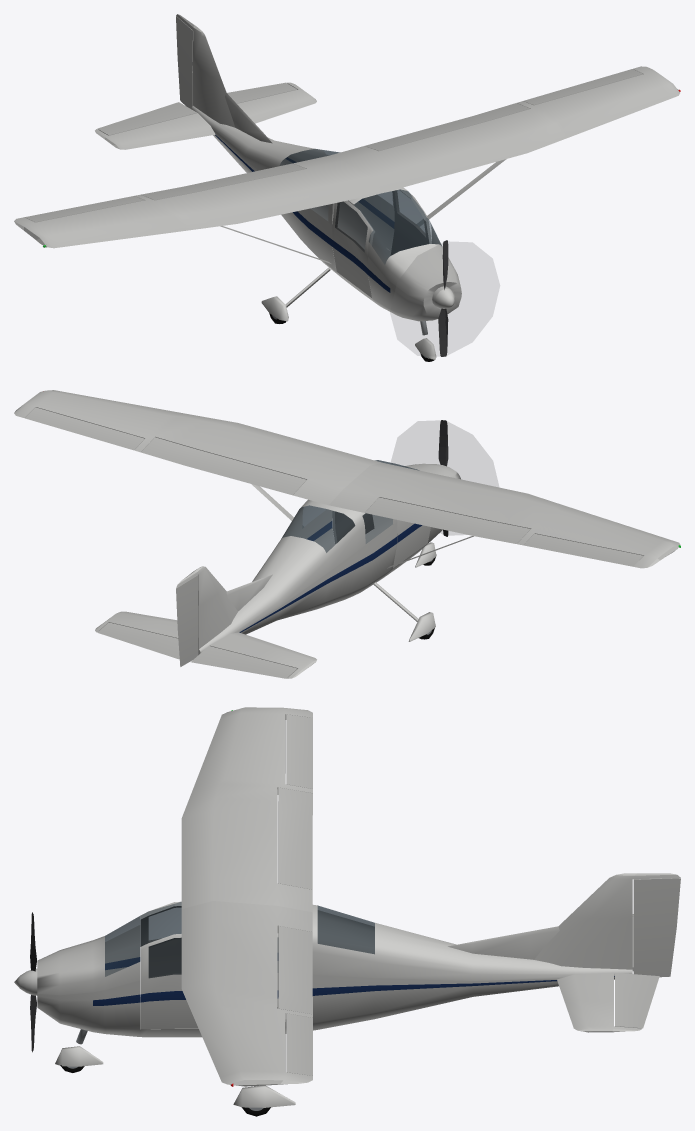
The model's file is cessna_lod2.glb.
The picture shows the model from 3 angles, top to bottom: view 1: azimuth 30°, elevation 25°; view 2: azimuth 150°, elevation 25°; view 3: azimuth 270°, elevation 25°; orthographic projection. The views are drawn at different scales.
Parts seen in each view (by area): view 1: fuselage, wing_l, wing_r, prop_disc, door_r, elevator, door_l, flap_l, flap_r, rudder, gear, propeller (+2 smaller); view 2: fuselage, wing_l, wing_r, prop_disc, flap_l, elevator, flap_r, rudder, aileron_l, aileron_r, door_r, gear (+2 smaller); view 3: fuselage, wing_r, wing_l, rudder, door_l, flap_r, flap_l, door_r, gear, elevator, aileron_r, aileron_l (+1 smaller).
Part boxes in pixels (<box>): fuselage: <box>95,14,506,321</box>; wing_l: <box>329,66,680,192</box>; wing_r: <box>14,156,382,248</box>; prop_disc: <box>390,242,499,356</box>; door_r: <box>332,200,374,297</box>; elevator: <box>97,82,296,135</box>; door_l: <box>390,189,431,255</box>; flap_l: <box>365,103,530,150</box>; flap_r: <box>141,163,306,200</box>; rudder: <box>176,16,193,108</box>; gear: <box>261,267,436,361</box>; propeller: <box>432,240,454,356</box>; fuselage: <box>95,460,473,678</box>; wing_l: <box>14,390,382,505</box>; wing_r: <box>329,463,680,568</box>; prop_disc: <box>391,421,498,534</box>; flap_l: <box>141,437,306,495</box>; elevator: <box>97,622,297,678</box>; flap_r: <box>365,497,530,543</box>; rudder: <box>176,575,198,666</box>; aileron_l: <box>25,407,144,450</box>; aileron_r: <box>523,533,643,566</box>; door_r: <box>393,520,430,567</box>; gear: <box>373,542,436,641</box>; fuselage: <box>37,873,680,1037</box>; wing_r: <box>181,707,312,912</box>; wing_l: <box>181,901,312,1086</box>; rudder: <box>633,878,680,977</box>; door_l: <box>140,934,198,1029</box>; flap_r: <box>278,787,312,889</box>; flap_l: <box>278,926,312,1014</box>; door_r: <box>140,901,181,976</box>; gear: <box>55,1029,295,1116</box>; elevator: <box>615,916,659,1028</box>; aileron_r: <box>286,714,312,788</box>; aileron_l: <box>286,1013,312,1075</box>.
Size of the model in its own units: 11.01 by 2.72 by 8.28.
